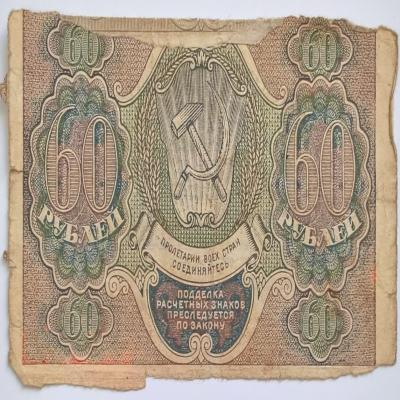numismatics: (2, 9, 400, 392)
